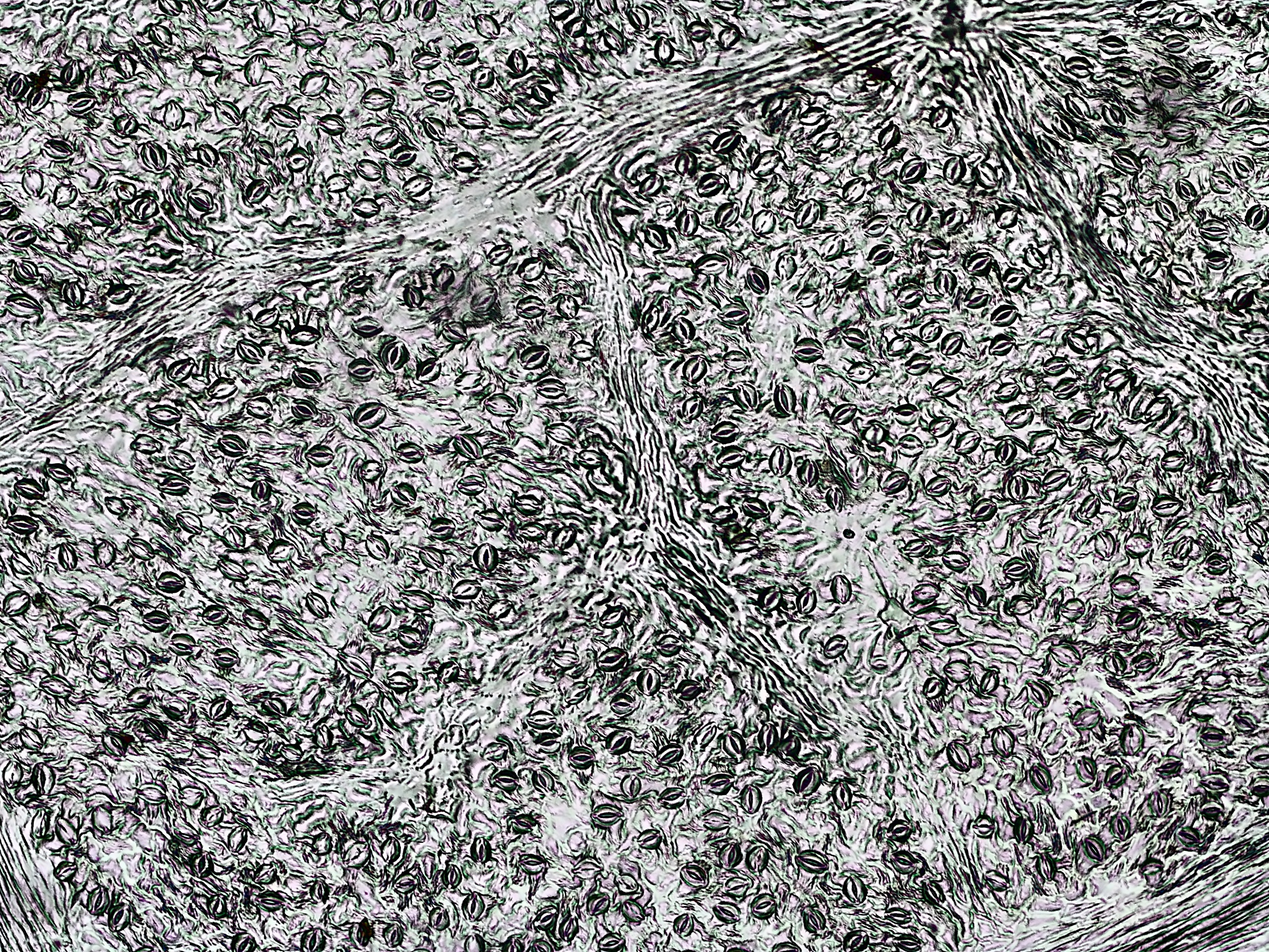stomata: (290, 26, 326, 52), (380, 340, 408, 373), (3, 293, 43, 316), (353, 402, 387, 429), (337, 652, 371, 678), (595, 646, 629, 672), (793, 198, 821, 229), (242, 53, 267, 87), (1119, 724, 1146, 755), (217, 555, 249, 581), (1110, 148, 1142, 174), (693, 253, 729, 276), (722, 729, 747, 762), (300, 69, 329, 97), (1064, 91, 1092, 120), (140, 141, 167, 171), (793, 766, 820, 796), (235, 338, 266, 364), (1048, 644, 1083, 667), (269, 104, 302, 128), (31, 762, 55, 795), (1125, 532, 1153, 560), (453, 433, 482, 460), (752, 150, 781, 177), (1050, 112, 1077, 141), (794, 337, 823, 364), (484, 392, 518, 415), (402, 173, 433, 198), (1003, 404, 1034, 429), (147, 404, 182, 426), (1162, 119, 1197, 141), (40, 674, 72, 698), (717, 303, 750, 326), (769, 444, 792, 477), (796, 850, 829, 873), (213, 100, 240, 128), (474, 12, 501, 40), (517, 256, 546, 282), (733, 382, 759, 411), (473, 543, 498, 573), (774, 384, 797, 416), (462, 890, 485, 922), (992, 726, 1015, 758), (359, 89, 394, 110), (1144, 395, 1171, 422), (2, 591, 30, 617), (895, 284, 924, 309), (1167, 263, 1196, 288), (1026, 679, 1051, 708), (711, 130, 741, 154), (933, 268, 957, 298), (843, 874, 867, 904), (401, 590, 435, 611), (192, 54, 223, 77), (206, 376, 237, 399), (383, 670, 414, 693), (573, 857, 604, 880), (158, 473, 190, 495), (45, 623, 77, 645), (544, 422, 576, 444), (591, 804, 623, 826), (470, 288, 497, 314), (344, 841, 370, 868), (167, 357, 195, 382), (714, 201, 739, 229), (1028, 429, 1056, 454), (758, 585, 783, 613), (520, 345, 549, 369), (683, 356, 707, 385), (598, 605, 627, 629), (636, 667, 660, 696), (217, 434, 247, 457), (1152, 495, 1182, 518), (846, 361, 876, 384), (717, 446, 747, 469), (162, 98, 184, 129), (388, 145, 419, 167), (931, 375, 962, 397), (1002, 267, 1028, 293), (148, 23, 173, 50), (26, 85, 51, 112), (899, 158, 926, 183), (883, 470, 910, 495), (605, 729, 632, 754), (750, 893, 777, 918), (6, 225, 38, 246), (254, 1, 275, 33), (697, 173, 725, 197), (820, 234, 844, 262), (943, 156, 967, 184), (943, 659, 971, 683), (946, 743, 970, 771), (890, 850, 918, 874), (425, 79, 454, 102), (432, 263, 455, 292), (426, 517, 455, 540), (676, 208, 699, 237), (1097, 194, 1126, 217), (368, 605, 391, 634), (1111, 575, 1140, 598), (67, 92, 97, 114), (457, 108, 487, 130), (60, 58, 82, 88), (292, 368, 325, 388), (305, 445, 335, 467), (14, 477, 44, 499), (1071, 707, 1101, 729), (290, 325, 321, 346), (254, 891, 285, 912), (113, 54, 138, 80), (244, 179, 270, 204), (642, 224, 668, 249), (751, 209, 776, 235), (965, 252, 991, 277), (955, 430, 981, 455), (4, 646, 29, 672), (718, 842, 743, 868), (469, 63, 493, 90), (355, 156, 382, 180), (861, 214, 888, 238), (1043, 469, 1070, 493), (142, 610, 170, 633), (267, 539, 295, 562), (1224, 94, 1252, 117), (655, 634, 683, 657), (1029, 765, 1052, 793), (536, 377, 565, 399), (1152, 66, 1181, 88), (1104, 368, 1133, 390), (711, 421, 740, 443), (739, 784, 761, 813), (43, 138, 73, 159), (1199, 219, 1229, 240), (1095, 530, 1116, 560), (137, 783, 167, 804), (831, 574, 852, 604), (114, 112, 139, 137), (366, 535, 390, 561), (908, 202, 932, 228), (1101, 104, 1127, 128), (1154, 196, 1178, 222), (568, 746, 594, 770), (1082, 836, 1106, 862), (61, 280, 84, 307), (187, 189, 214, 212), (746, 267, 769, 294), (1246, 203, 1269, 230), (1160, 450, 1187, 473), (55, 817, 78, 844), (469, 836, 492, 863), (658, 786, 685, 809), (1003, 557, 1030, 580), (1115, 608, 1142, 631), (7, 515, 38, 535), (7, 73, 29, 101), (347, 358, 375, 380), (94, 540, 116, 568), (476, 509, 504, 531), (990, 303, 1018, 325), (87, 886, 109, 914), (656, 743, 684, 765), (713, 901, 741, 923), (156, 572, 185, 593), (518, 521, 547, 542), (758, 723, 779, 752), (832, 780, 853, 809), (130, 434, 162, 453), (285, 147, 310, 171), (352, 316, 382, 336), (416, 357, 441, 381), (44, 462, 74, 482), (456, 475, 486, 495), (1244, 50, 1269, 74), (898, 433, 923, 457), (122, 645, 147, 669), (517, 854, 547, 874), (564, 682, 589, 706), (823, 634, 848, 658), (559, 913, 579, 943), (13, 260, 39, 283), (176, 512, 202, 535), (290, 502, 316, 525), (322, 527, 345, 553), (601, 27, 624, 53), (719, 24, 742, 50), (842, 177, 865, 203), (672, 317, 695, 343), (306, 592, 329, 618), (693, 721, 716, 747), (746, 845, 769, 871), (878, 124, 900, 151), (975, 161, 997, 188), (1246, 521, 1268, 548), (202, 604, 229, 626), (243, 608, 270, 630), (676, 679, 703, 701), (680, 865, 707, 887), (88, 605, 119, 624), (517, 296, 545, 317), (290, 398, 318, 419), (127, 538, 155, 559), (1065, 56, 1093, 77), (1107, 66, 1135, 87), (987, 334, 1015, 355), (846, 454, 867, 482), (796, 587, 817, 615), (1014, 816, 1035, 844), (352, 198, 381, 218), (209, 492, 238, 512), (942, 551, 971, 571), (422, 116, 446, 140), (101, 732, 125, 756), (531, 769, 555, 793), (1061, 598, 1085, 622), (133, 197, 158, 220), (222, 525, 245, 550), (419, 546, 444, 569), (1209, 170, 1234, 193), (940, 207, 963, 232), (972, 498, 997, 521), (170, 633, 195, 656), (397, 625, 422, 648), (190, 853, 213, 878), (921, 880, 944, 905), (391, 484, 417, 506), (775, 255, 797, 281), (995, 438, 1017, 464), (830, 403, 856, 425), (178, 786, 204, 808), (886, 820, 912, 842), (1105, 764, 1127, 790), (655, 36, 674, 66), (729, 532, 759, 551), (452, 152, 479, 173), (557, 293, 578, 320), (245, 397, 272, 418), (168, 449, 195, 470), (1053, 378, 1080, 399), (1069, 409, 1096, 430), (799, 459, 820, 486), (92, 806, 113, 833), (2, 761, 23, 788), (108, 904, 129, 931), (318, 115, 346, 135), (397, 443, 425, 463), (381, 836, 401, 864), (912, 584, 940, 604), (32, 808, 50, 839), (526, 710, 557, 728), (553, 526, 577, 549), (639, 173, 663, 196), (19, 726, 43, 749), (345, 704, 369, 727), (1177, 617, 1201, 640), (621, 899, 645, 922), (532, 907, 556, 930), (411, 50, 440, 69), (254, 141, 276, 166), (372, 41, 394, 66), (360, 460, 385, 482), (442, 321, 467, 343), (515, 494, 540, 516), (964, 287, 989, 309), (906, 354, 931, 376), (929, 416, 954, 438), (862, 424, 887, 446), (127, 686, 152, 708), (493, 769, 518, 791), (21, 170, 42, 196), (54, 182, 75, 208), (198, 143, 219, 169), (254, 307, 280, 328), (1065, 332, 1091, 353), (926, 475, 952, 496), (1008, 475, 1029, 501), (707, 774, 733, 795), (983, 870, 1009, 891), (452, 44, 479, 64), (106, 284, 133, 304), (485, 244, 512, 264), (867, 244, 894, 264), (1172, 11, 1202, 29), (1098, 36, 1128, 54), (1108, 228, 1128, 255), (1036, 853, 1056, 880), (1199, 727, 1227, 746), (928, 105, 951, 128), (996, 204, 1019, 227), (1231, 287, 1254, 310), (209, 698, 232, 721), (201, 804, 224, 827), (1232, 154, 1254, 178), (941, 332, 963, 356), (973, 814, 995, 838), (454, 370, 485, 387), (922, 238, 947, 259), (1079, 494, 1100, 519), (214, 647, 239, 668), (609, 693, 634, 714), (637, 829, 662, 850), (923, 675, 944, 700), (1009, 595, 1034, 616), (1110, 814, 1131, 839), (724, 876, 749, 897), (59, 542, 77, 571), (1201, 673, 1230, 691), (509, 50, 529, 76), (815, 132, 841, 152), (683, 395, 703, 421), (742, 498, 768, 518), (487, 599, 513, 619), (228, 826, 248, 852), (511, 814, 537, 834), (88, 207, 115, 226), (1042, 356, 1069, 375), (598, 933, 625, 952), (926, 618, 960, 633), (11, 551, 34, 573), (1206, 553, 1229, 575), (371, 128, 399, 146), (326, 173, 350, 194), (675, 151, 696, 175), (1162, 34, 1190, 52), (1175, 177, 1196, 201), (1204, 249, 1228, 270), (1115, 489, 1139, 510), (894, 404, 918, 425), (842, 328, 866, 349), (312, 832, 333, 856), (481, 742, 509, 760), (394, 873, 418, 894), (1202, 774, 1230, 792), (383, 923, 404, 947), (571, 341, 596, 361), (577, 449, 602, 469), (629, 6, 649, 31), (243, 722, 268, 742), (207, 894, 227, 919), (441, 864, 461, 889), (614, 873, 639, 893), (642, 305, 658, 336), (193, 739, 219, 758), (314, 724, 333, 750), (980, 670, 999, 696), (1214, 596, 1243, 613), (346, 275, 373, 293), (799, 106, 826, 124), (453, 580, 480, 598), (702, 812, 729, 830), (565, 16, 587, 38), (1024, 246, 1046, 268), (144, 717, 166, 739), (687, 21, 710, 42), (965, 584, 986, 607), (804, 909, 825, 932), (586, 893, 609, 914), (429, 907, 450, 930), (621, 775, 641, 799), (1172, 536, 1192, 560), (1192, 60, 1217, 79), (1139, 254, 1158, 279), (995, 382, 1020, 401), (887, 336, 912, 355), (536, 734, 561, 753), (895, 934, 921, 952), (403, 285, 424, 307), (531, 84, 553, 105), (920, 320, 941, 342), (438, 661, 459, 683), (1104, 654, 1126, 675), (113, 179, 136, 199), (251, 479, 271, 502), (54, 861, 77, 881), (884, 907, 911, 924), (724, 350, 748, 369), (904, 539, 929, 557), (1152, 790, 1168, 818), (553, 651, 579, 668), (91, 660, 111, 682), (105, 496, 128, 515), (1204, 473, 1227, 492), (674, 913, 693, 936), (795, 289, 819, 307), (262, 698, 286, 716), (311, 879, 329, 903), (1177, 826, 1201, 844), (1233, 713, 1257, 731), (1156, 757, 1181, 774), (254, 864, 274, 885), (164, 699, 187, 717), (174, 825, 197, 843), (826, 487, 842, 512), (1134, 653, 1155, 672), (281, 745, 303, 762), (1201, 801, 1223, 817), (1081, 756, 1097, 777)
